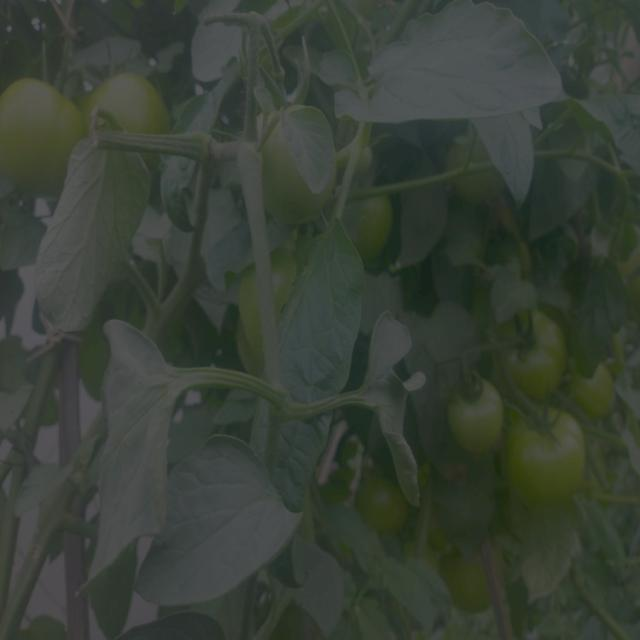tomato: (1, 69, 78, 190), (506, 396, 589, 499), (496, 307, 572, 404), (257, 119, 315, 232), (90, 70, 169, 143), (448, 374, 511, 450), (226, 271, 265, 374), (445, 541, 496, 617), (580, 359, 627, 426), (441, 143, 494, 196), (359, 195, 398, 265), (358, 476, 408, 529), (624, 239, 640, 315)
